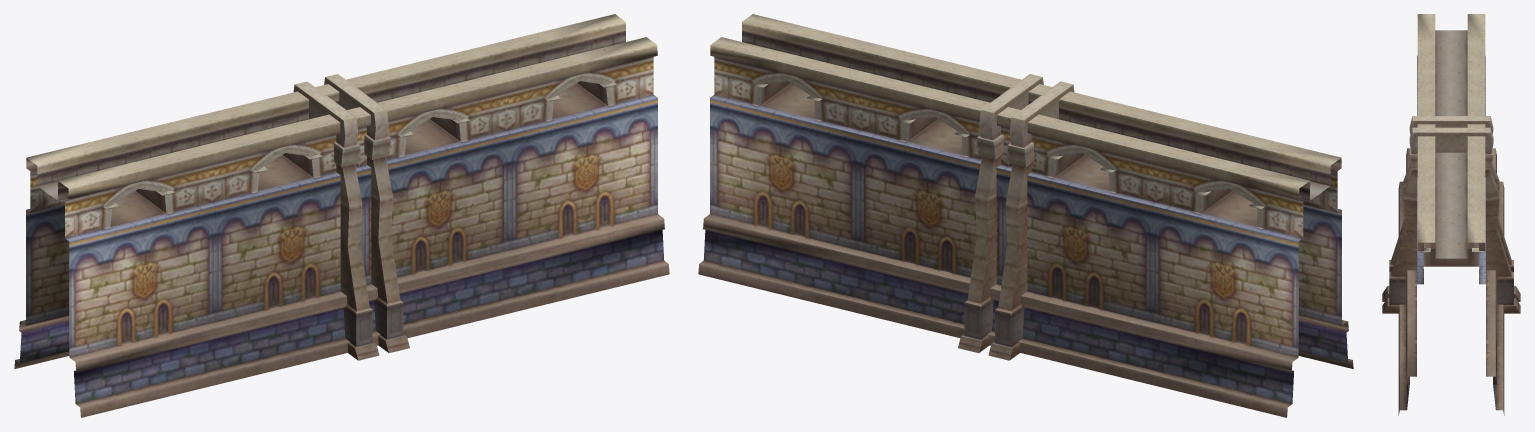
Rendered from S_Build_City087.FBX.
3 renders of one model, left to right at view 1: azimuth 30°, elevation 25°; view 2: azimuth 150°, elevation 25°; view 3: azimuth 270°, elevation 25°, orthographic. The views are drawn at different scales.
Parts seen in each view (by area): view 1: S_Build_City087; view 2: S_Build_City087; view 3: S_Build_City087.
Part boxes in pixels (box(x1,y1,x2,y2)): S_Build_City087: box(14, 14, 669, 417); S_Build_City087: box(698, 14, 1353, 417); S_Build_City087: box(1382, 14, 1520, 415).
Bounding box in the file's own units: 1096 × 401 × 280.
